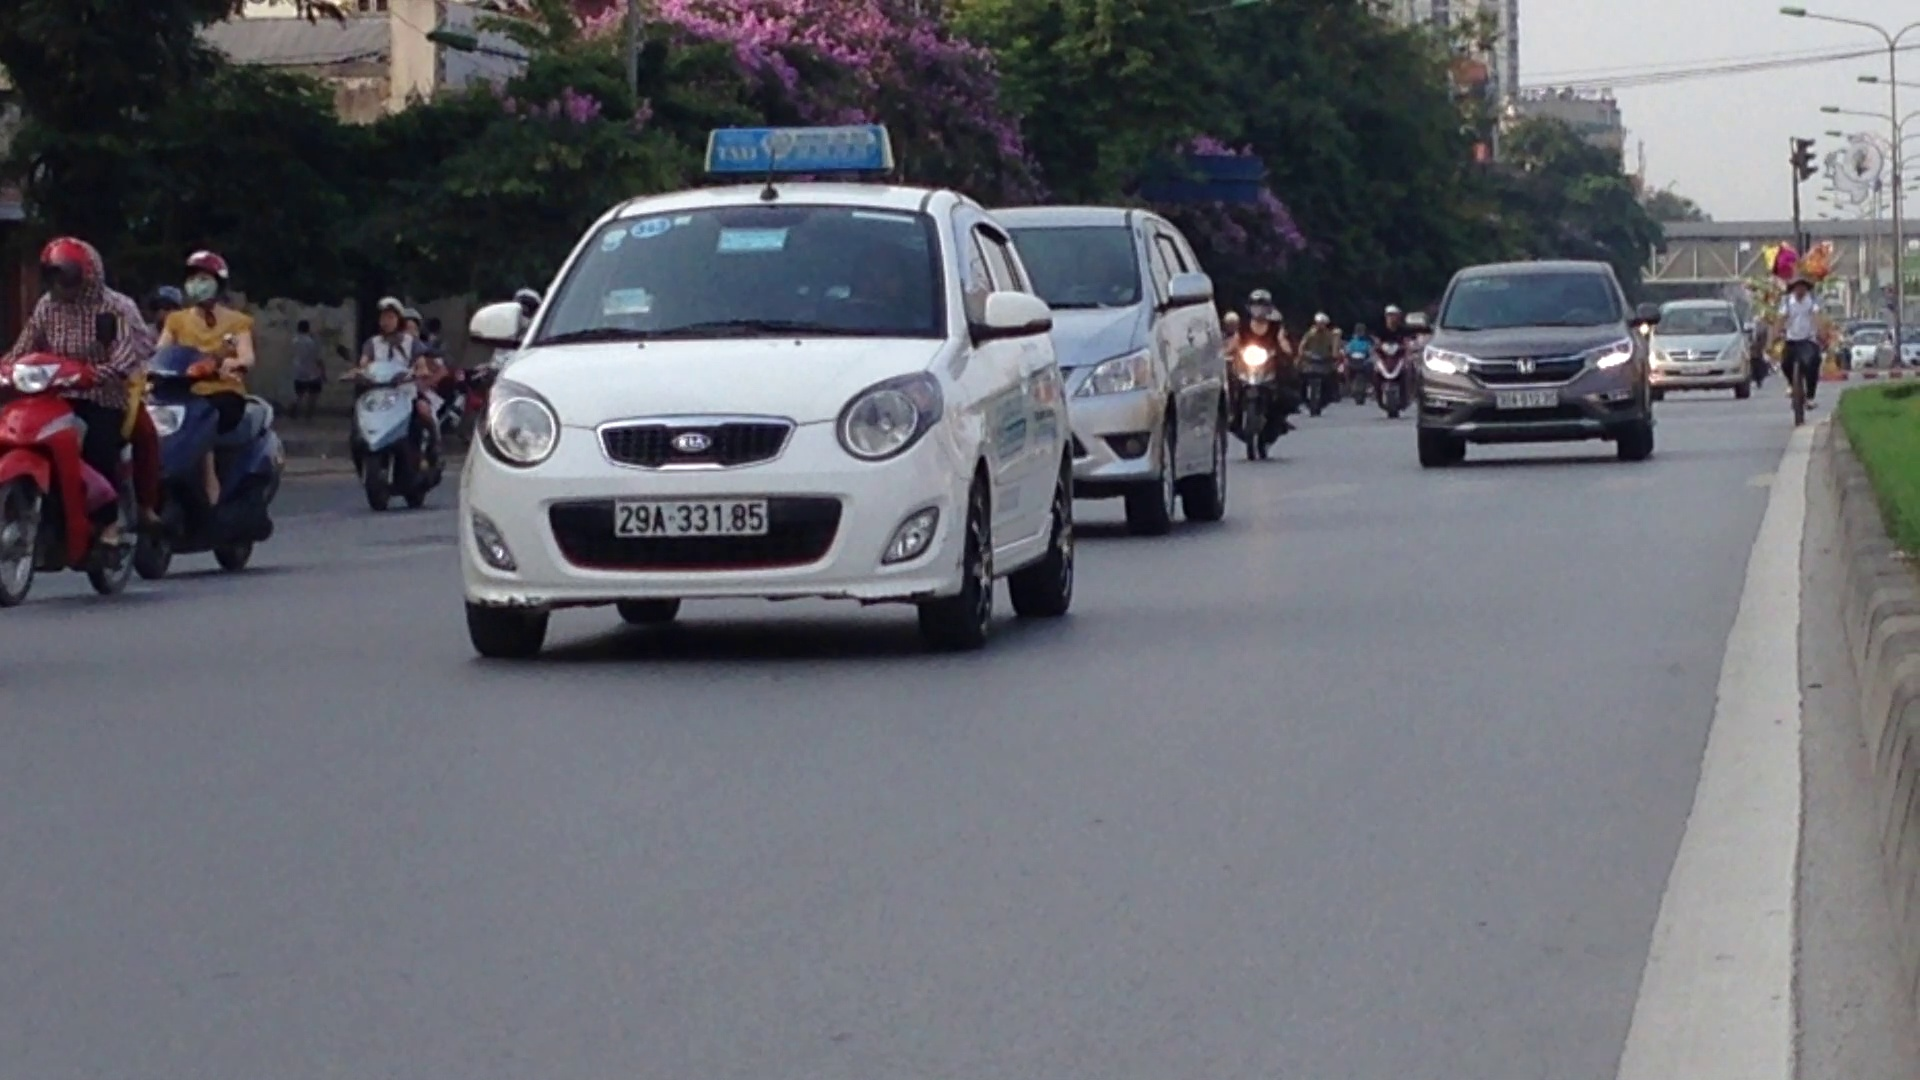person: (611, 496, 771, 539), (1491, 386, 1561, 410)
